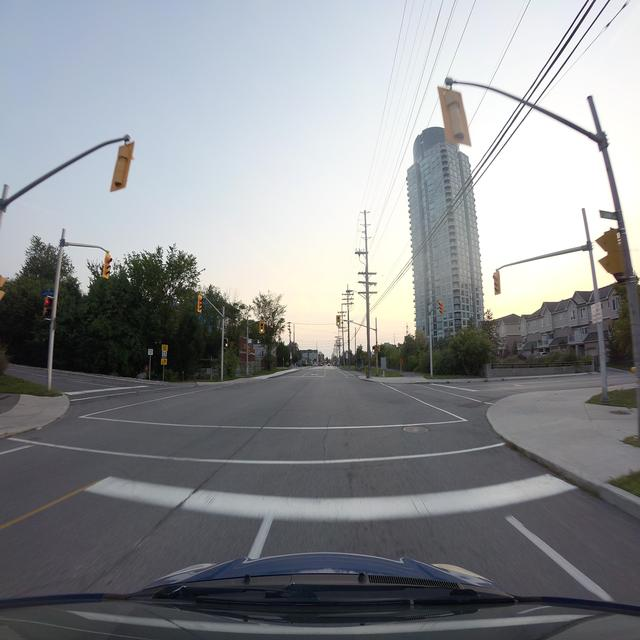Manhole: (609, 410, 629, 414)
Vegetation: (53, 243, 331, 380), (0, 233, 58, 375), (350, 330, 429, 372)
